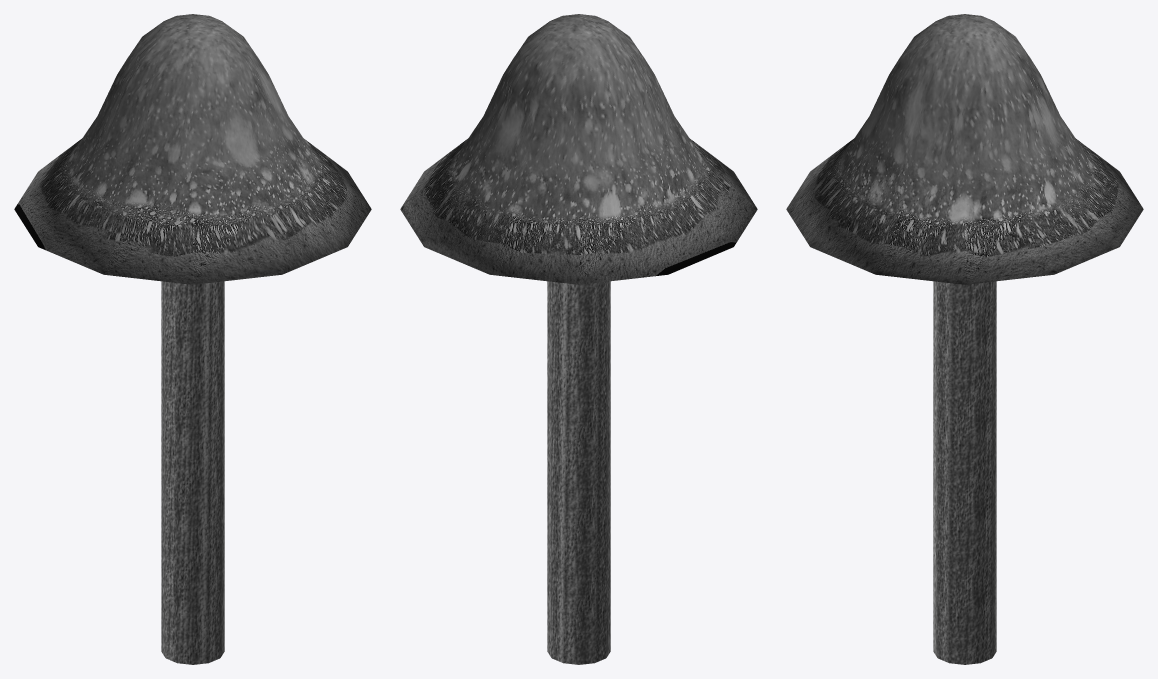
The model's file is Mushroom4.fbx.
The picture shows the model from 3 angles, left to right: view 1: azimuth 30°, elevation 25°; view 2: azimuth 150°, elevation 25°; view 3: azimuth 270°, elevation 25°; orthographic projection.
Parts seen in each view (by area): view 1: Mushroom 4; view 2: Mushroom 4; view 3: Mushroom 4.
Part boxes in pixels (box(x1,y1,x2,y2)): Mushroom 4: box(14, 14, 371, 664); Mushroom 4: box(400, 14, 757, 664); Mushroom 4: box(786, 14, 1143, 664).
Size of the model in its own units: 55.64 by 109 by 55.64.
